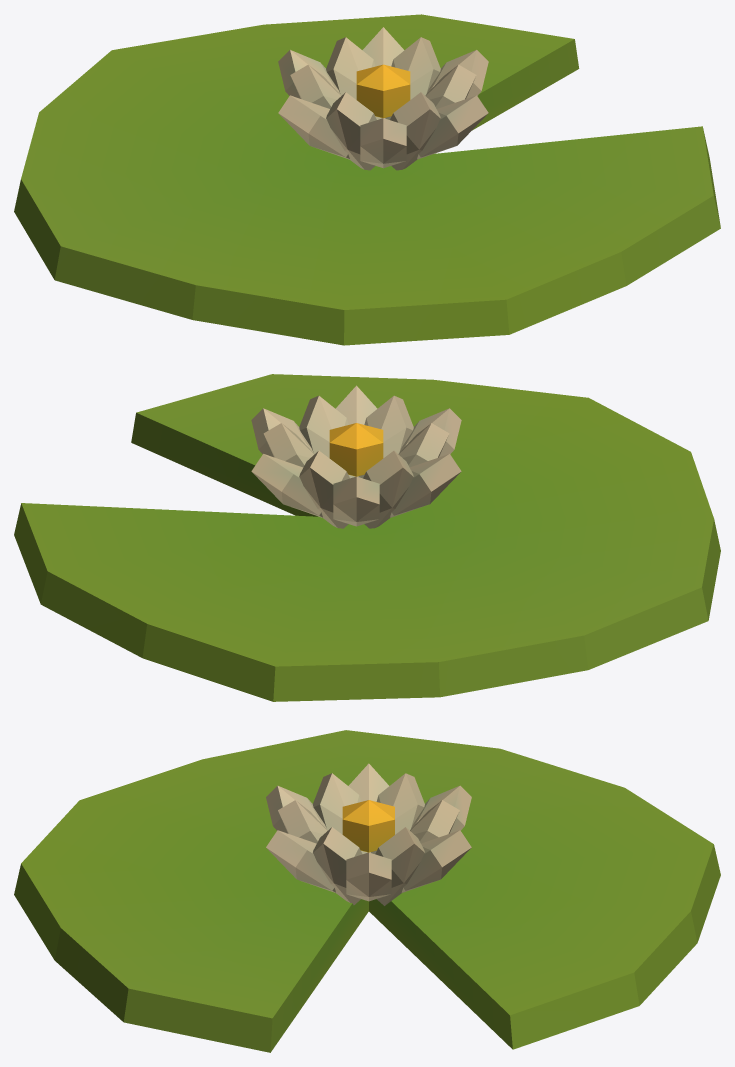
The model's file is Lily_Pad_Single.glb.
3 views of the same model, one above another, from view 1: azimuth 30°, elevation 25°; view 2: azimuth 150°, elevation 25°; view 3: azimuth 270°, elevation 25° (orthographic). The views are drawn at different scales.
Visible parts, largest first — view 1: Lily_Pad_Single; view 2: Lily_Pad_Single; view 3: Lily_Pad_Single.
Boxes of the visible parts, box(x1,y1,x2,y2) form: Lily_Pad_Single: box(14, 14, 720, 345); Lily_Pad_Single: box(14, 374, 720, 701); Lily_Pad_Single: box(14, 730, 720, 1052).
Bounding box in the file's own units: 0.5985 × 0.115 × 0.6077.
